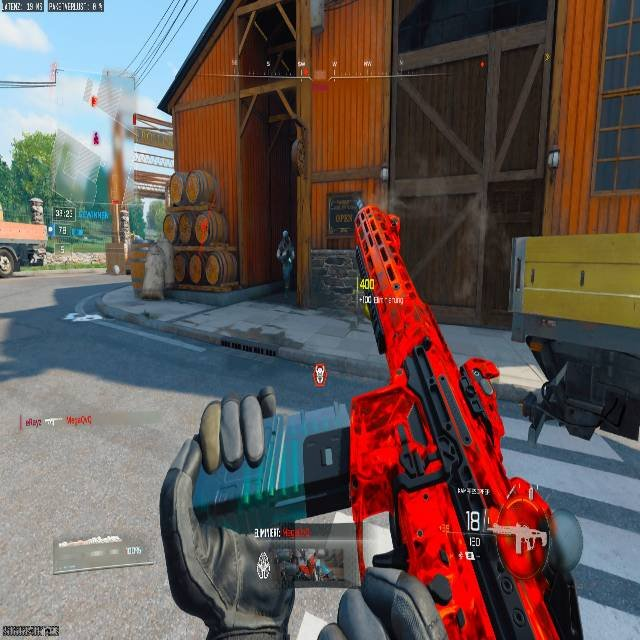player: (306, 551, 318, 578)
